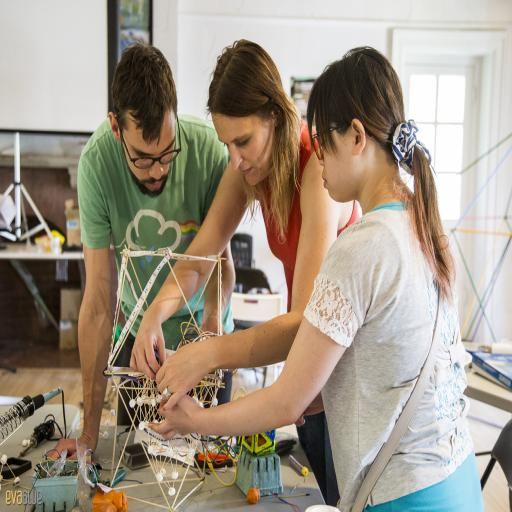Person: (300, 110, 488, 447), (50, 101, 218, 429), (195, 98, 333, 378)
no_gloves: (122, 298, 162, 340), (162, 348, 202, 390), (156, 321, 196, 363), (49, 385, 103, 408)
no_goggle: (304, 162, 364, 181), (214, 162, 274, 181), (122, 176, 182, 194)
no_helmet: (205, 99, 275, 155), (318, 110, 389, 165), (107, 104, 177, 159)
none: (323, 242, 446, 410), (88, 185, 212, 296), (217, 194, 341, 305)
